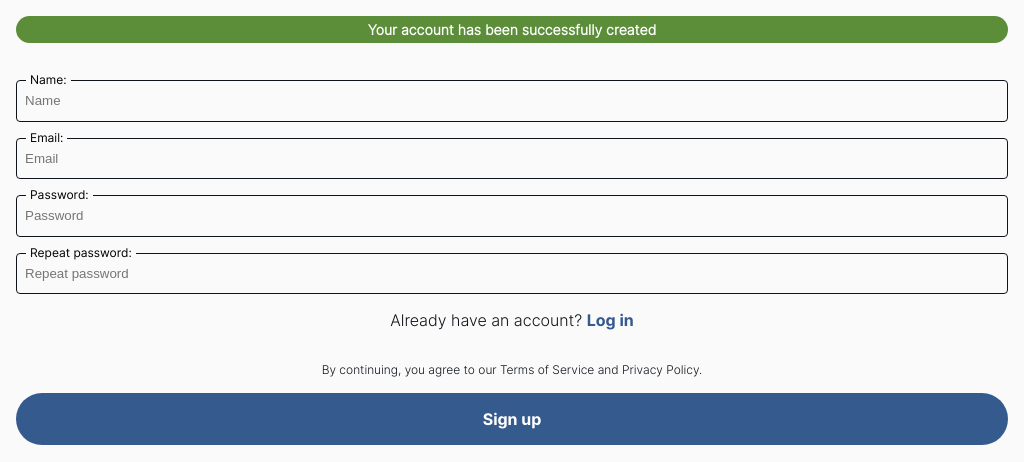
Scenario: Given a register form component › When a user tries to register and account already exits, then he should see an error
The image size is (1024, 462).
Type "Adrian" into the field labelled "Name:". click: (512, 101)
box: [16,80,1008,122]
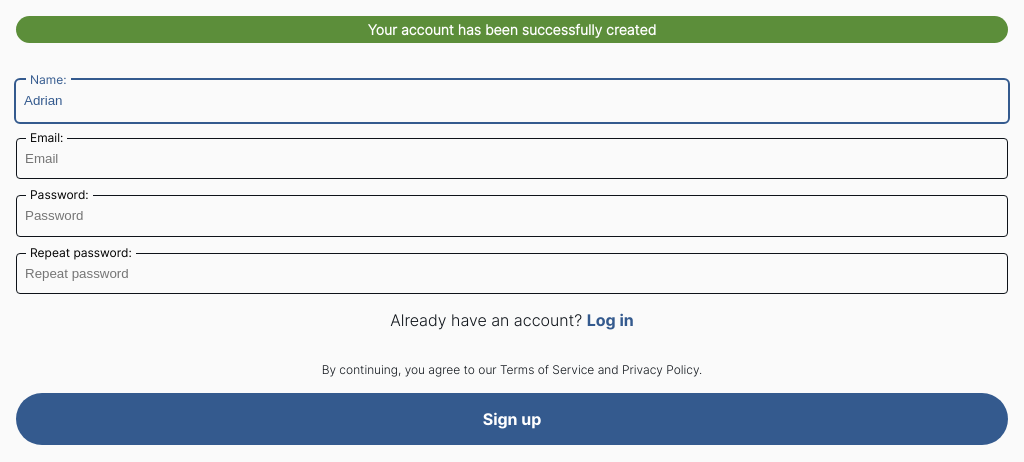
Type "registeredEmail@test.com" into the field labelled "Email:". click: (512, 158)
box: [16,138,1008,179]
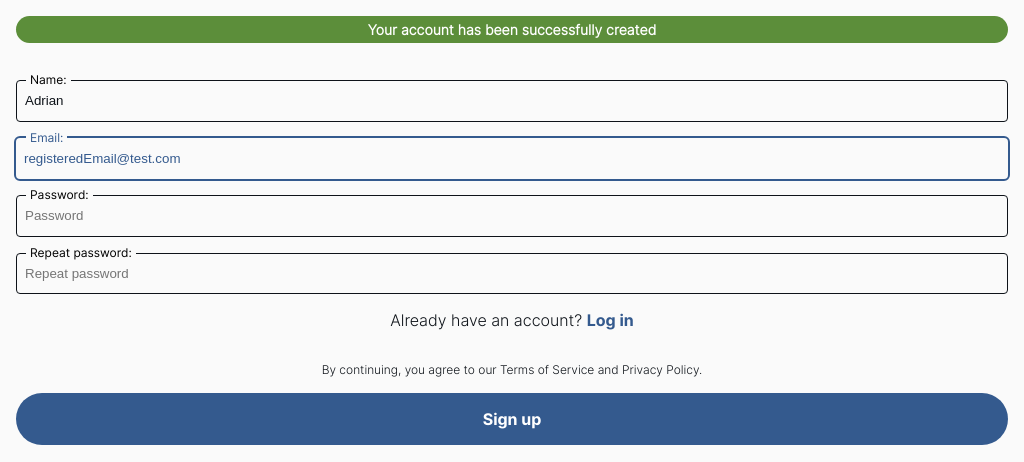
Type "mySecurePass" into the password field labelled "Password:". click: (512, 216)
box: [16,195,1008,237]
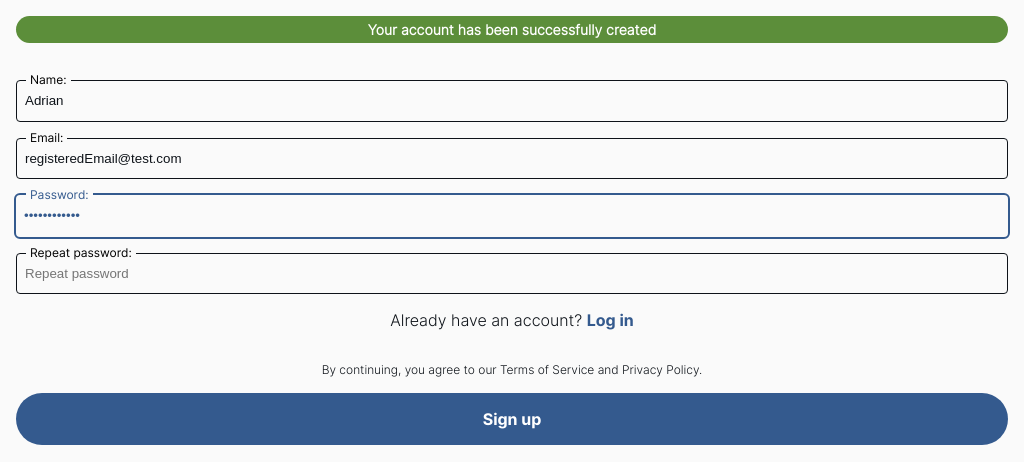
Type "mySecurePass" into the password field labelled "Repeat password:". click: (512, 274)
box: [16,253,1008,294]
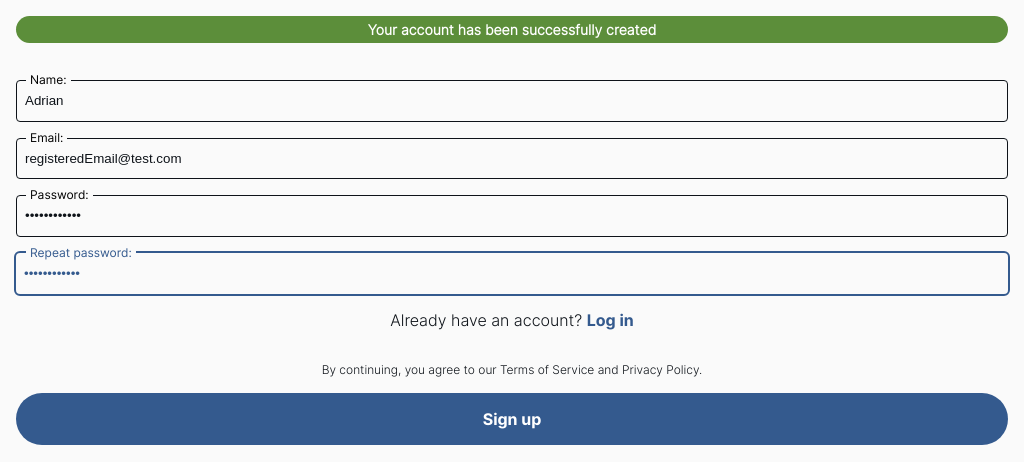
Click the button. click: (512, 419)
box: [16,393,1008,445]
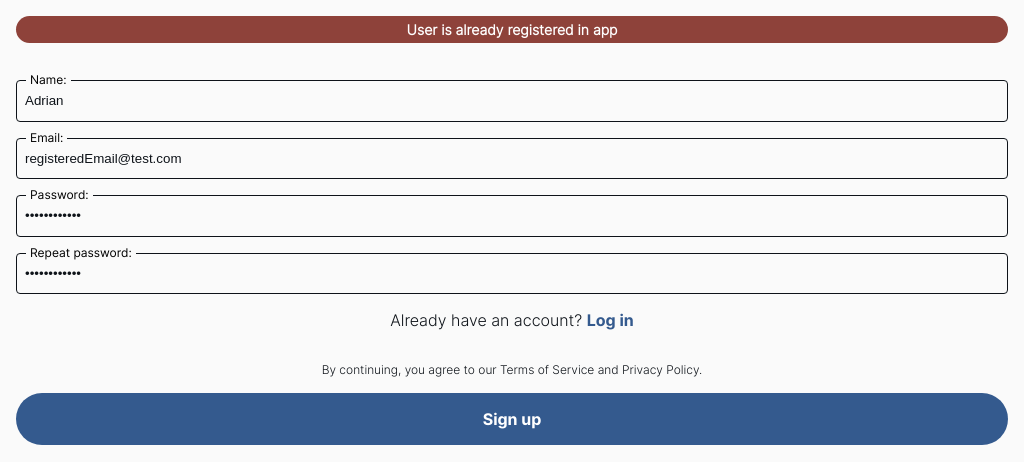
Expected: the heading reads "User is already registered in app", [406,21,617,38]
